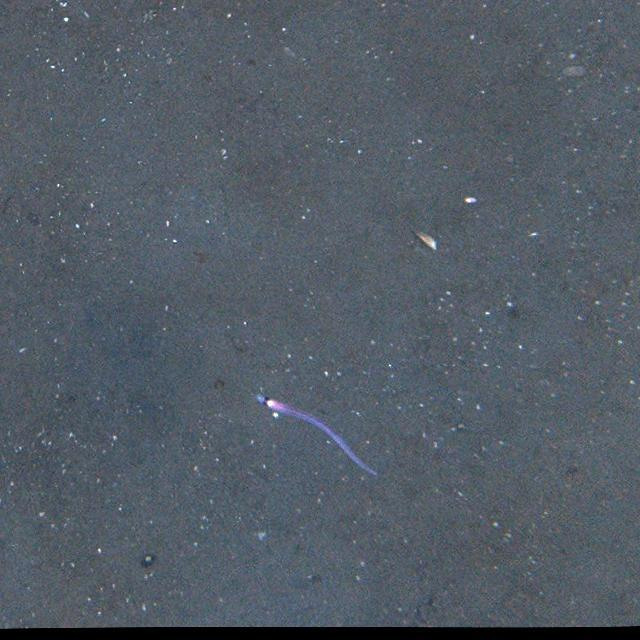roundfish: (249, 387, 383, 484)
